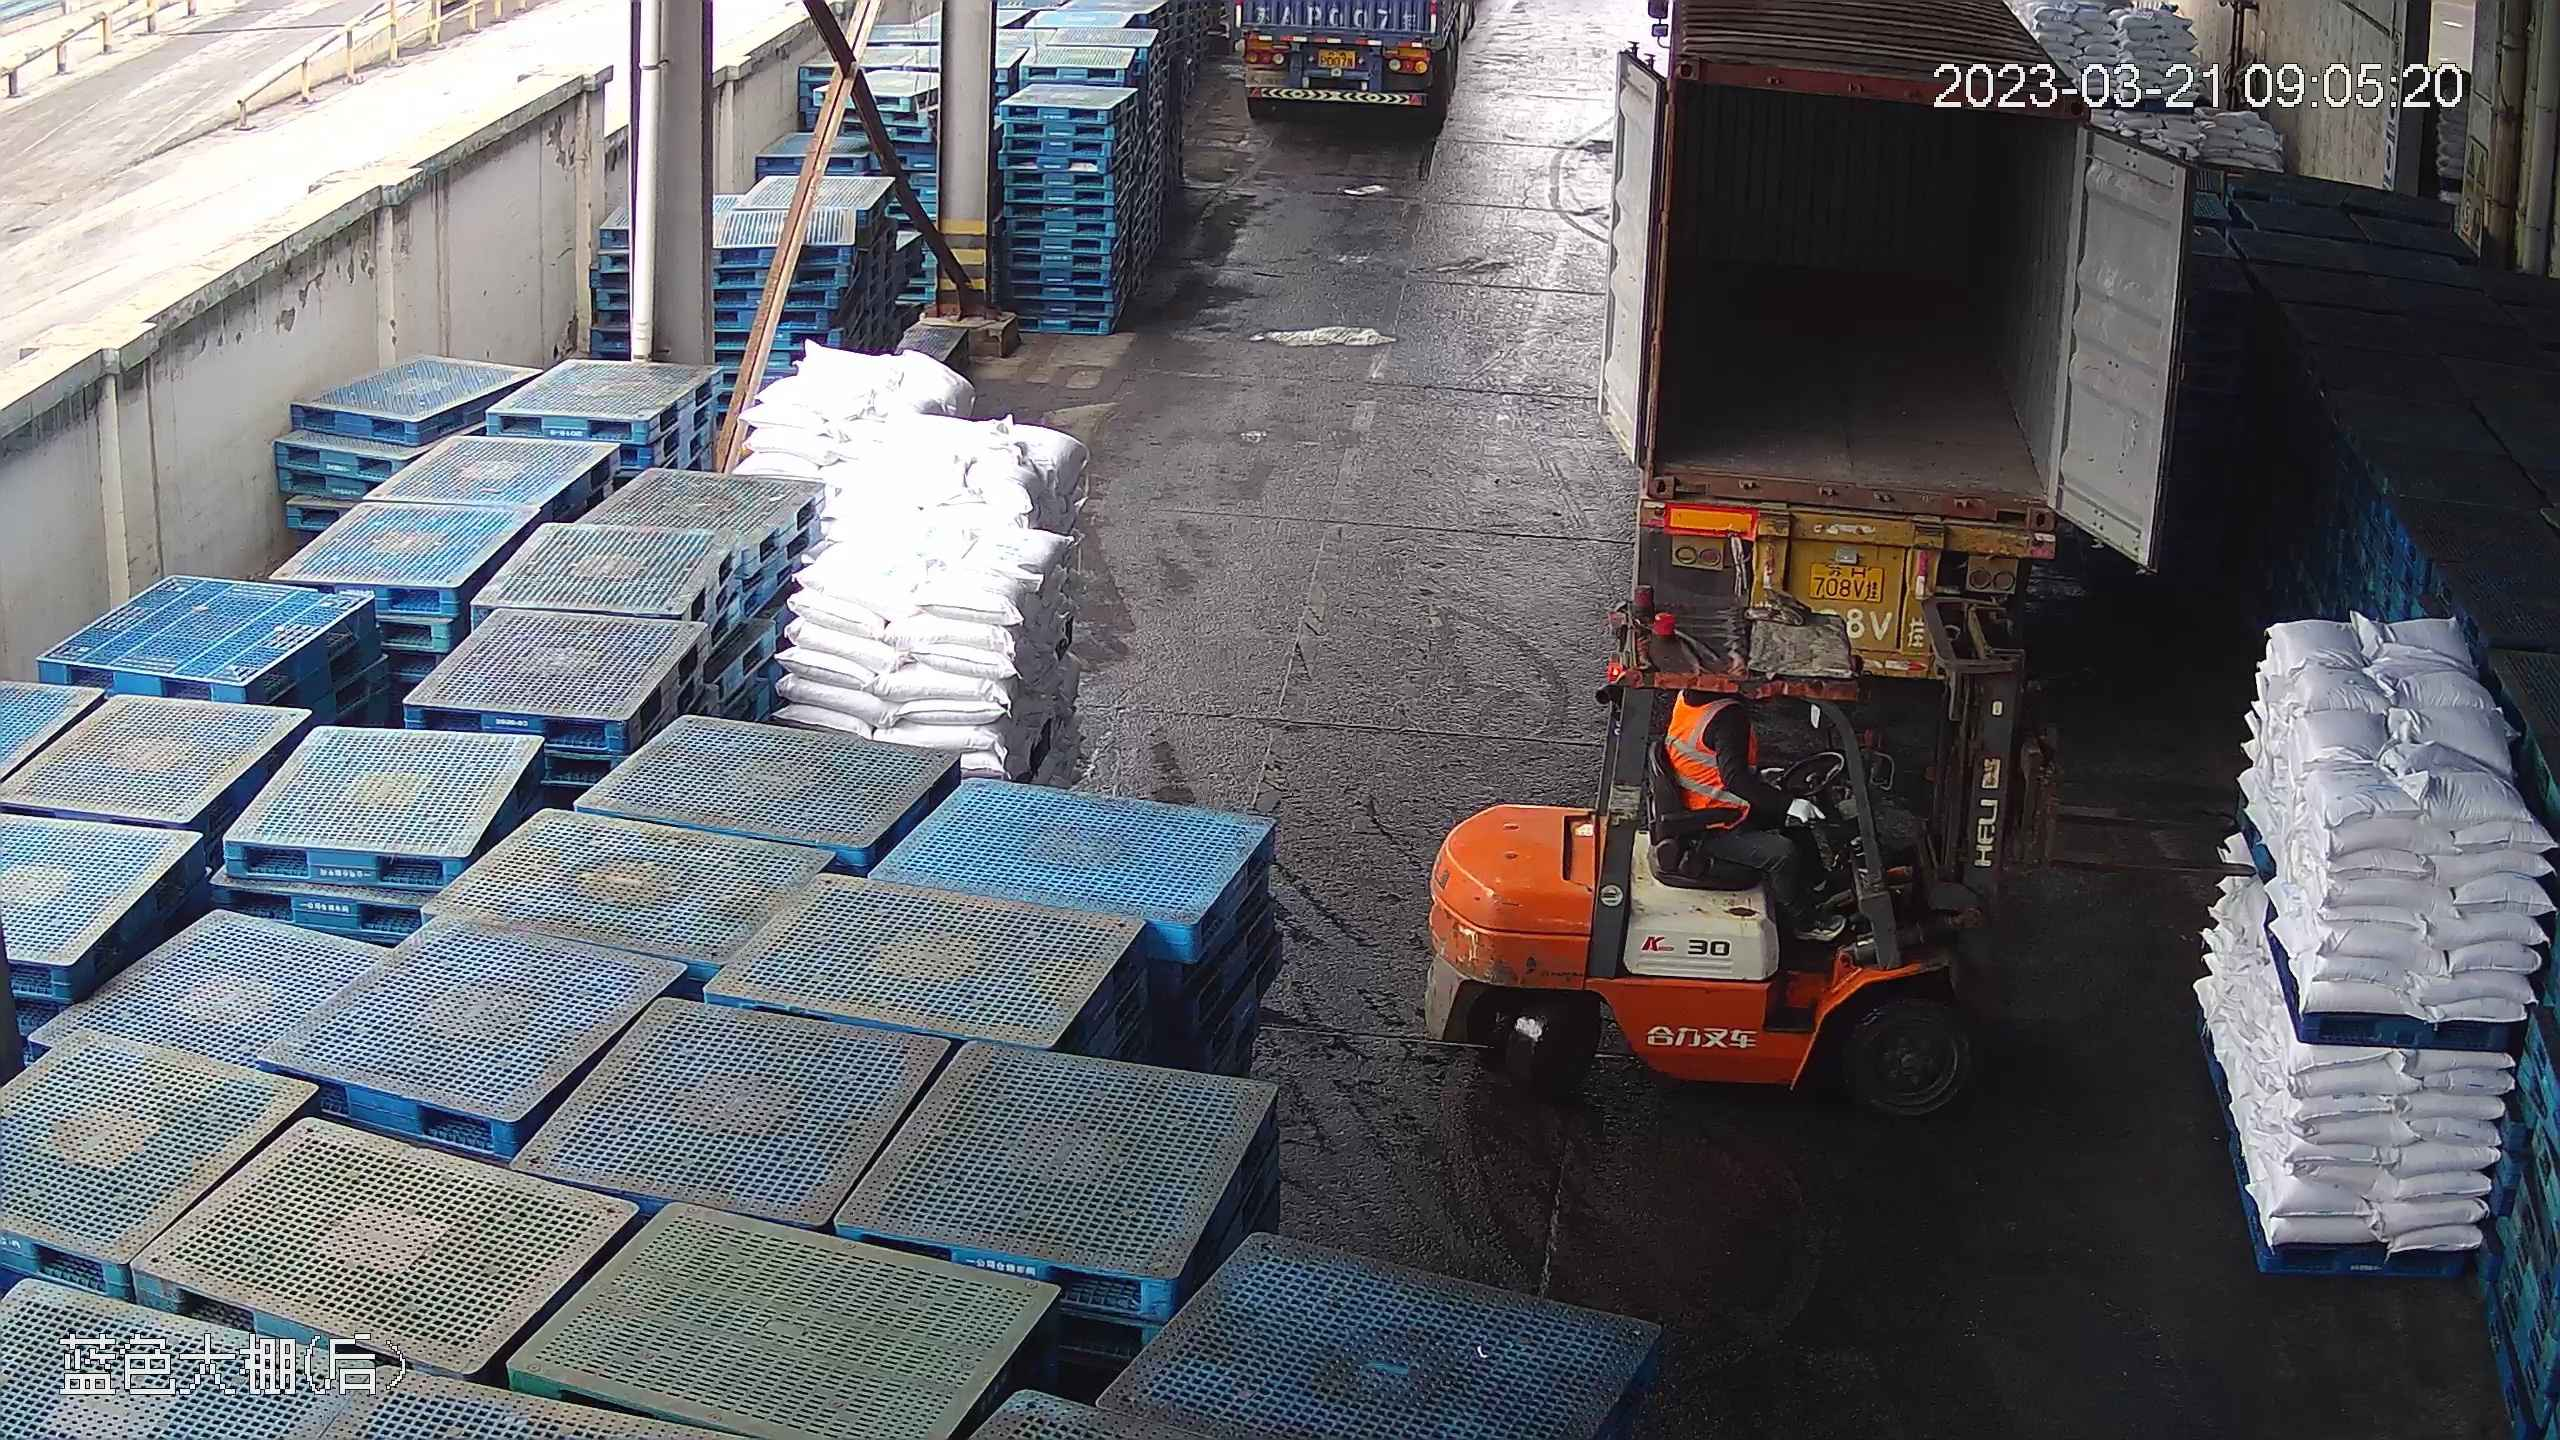people: (1662, 684, 1844, 922)
